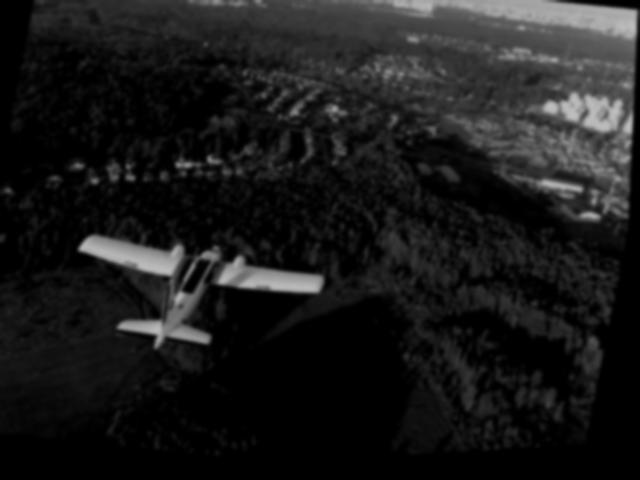hedef: (43, 212, 334, 383)
